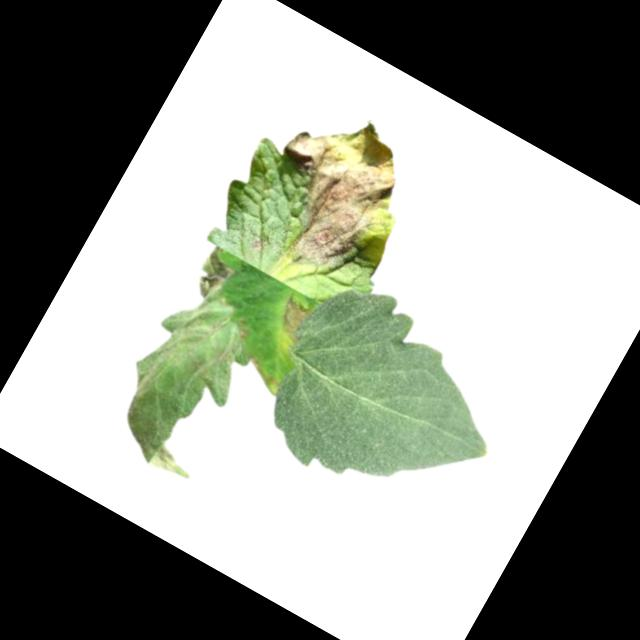Late_blight: (76, 261, 277, 487), (239, 87, 440, 296), (184, 243, 239, 303), (269, 297, 315, 347), (246, 231, 269, 255)
